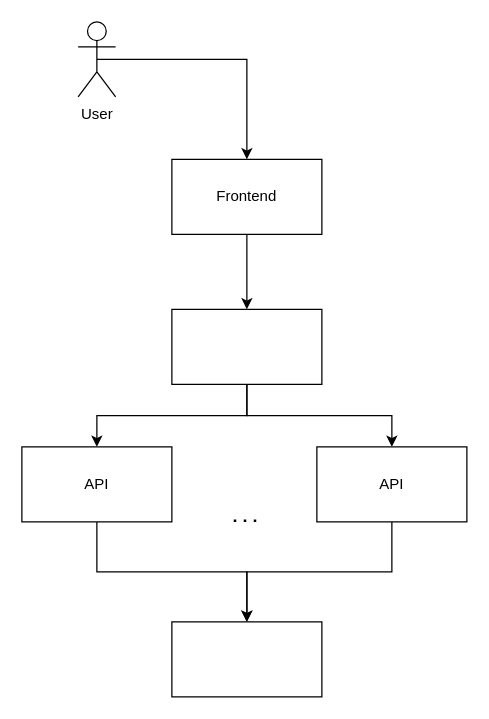
Image size: 489x719. Some labels were removed from this diagram. The shapes that lost their labels are listed below. From the top down, each one's box as (x1, y1, x2, y2) in pixels, then its label:
(171, 308, 322, 384): Load balancer
(171, 621, 322, 697): DB
